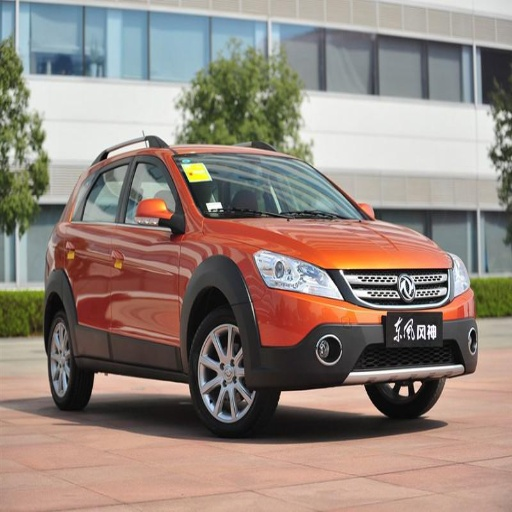front_bumper: (252, 268, 478, 387)
front_right_door: (111, 152, 184, 366)
front_right_light: (254, 250, 344, 300)
